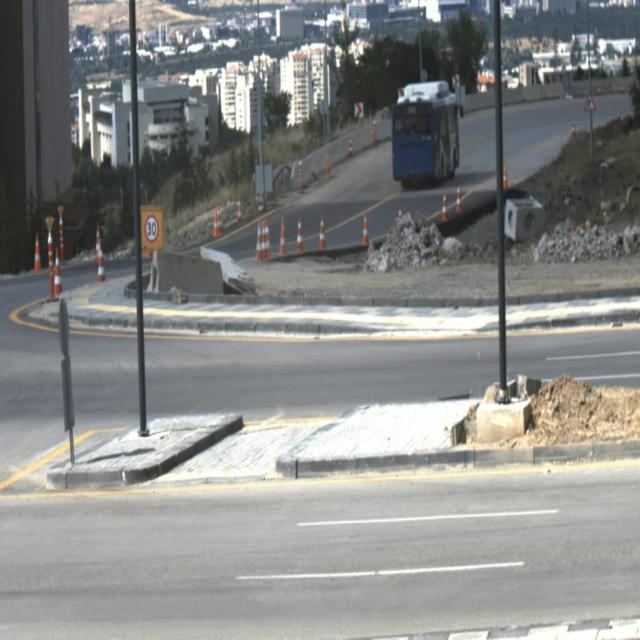Bus: (389, 83, 458, 189)
